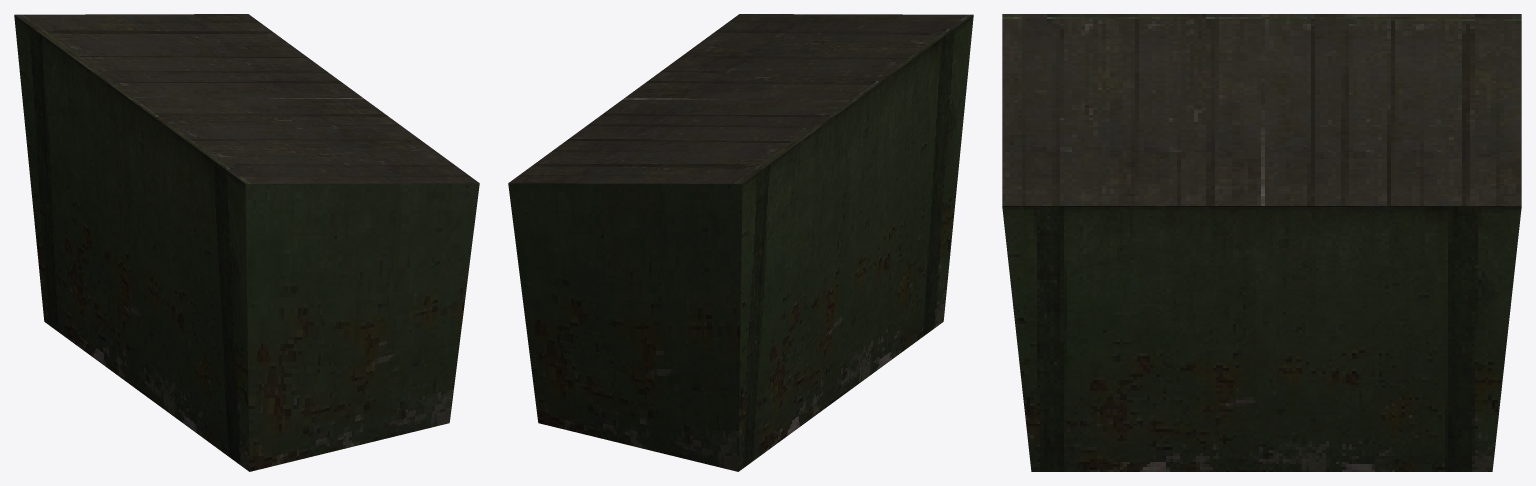
The model's file is trash.glb.
The picture shows the model from 3 angles, left to right: view 1: azimuth 30°, elevation 25°; view 2: azimuth 150°, elevation 25°; view 3: azimuth 270°, elevation 25°; orthographic projection. The views are drawn at different scales.
Visible parts, largest first — view 1: Cube; view 2: Cube; view 3: Cube.
Part boxes in pixels (<box>): Cube: <box>14,14,479,471</box>; Cube: <box>508,14,973,471</box>; Cube: <box>1002,14,1521,471</box>.
Size of the model in its own units: 2 by 2.46 by 3.42.
1 material, 1 textured.
